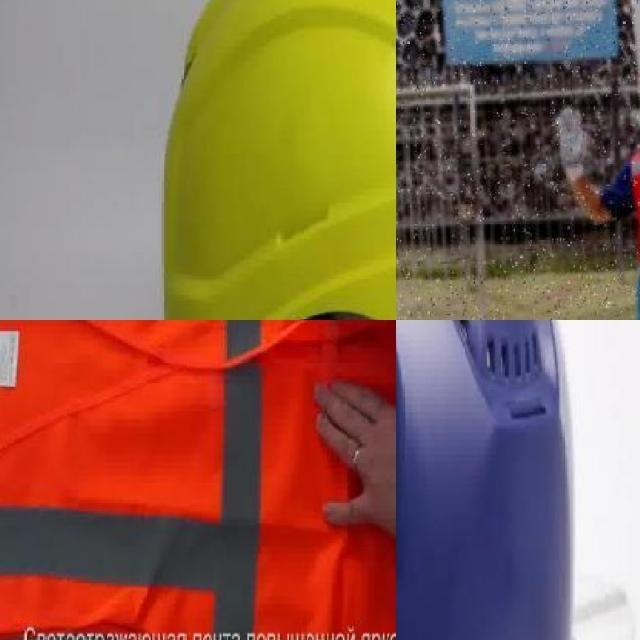apron: (555, 106, 591, 185)
